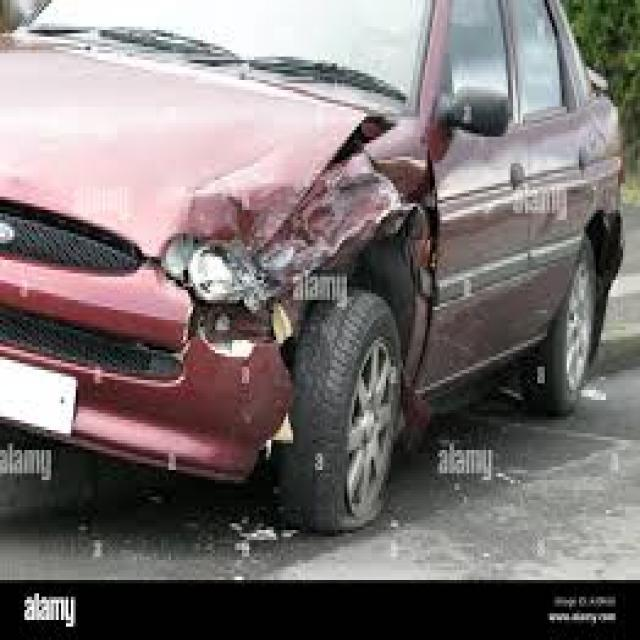damaged-hood: (0, 30, 398, 252)
